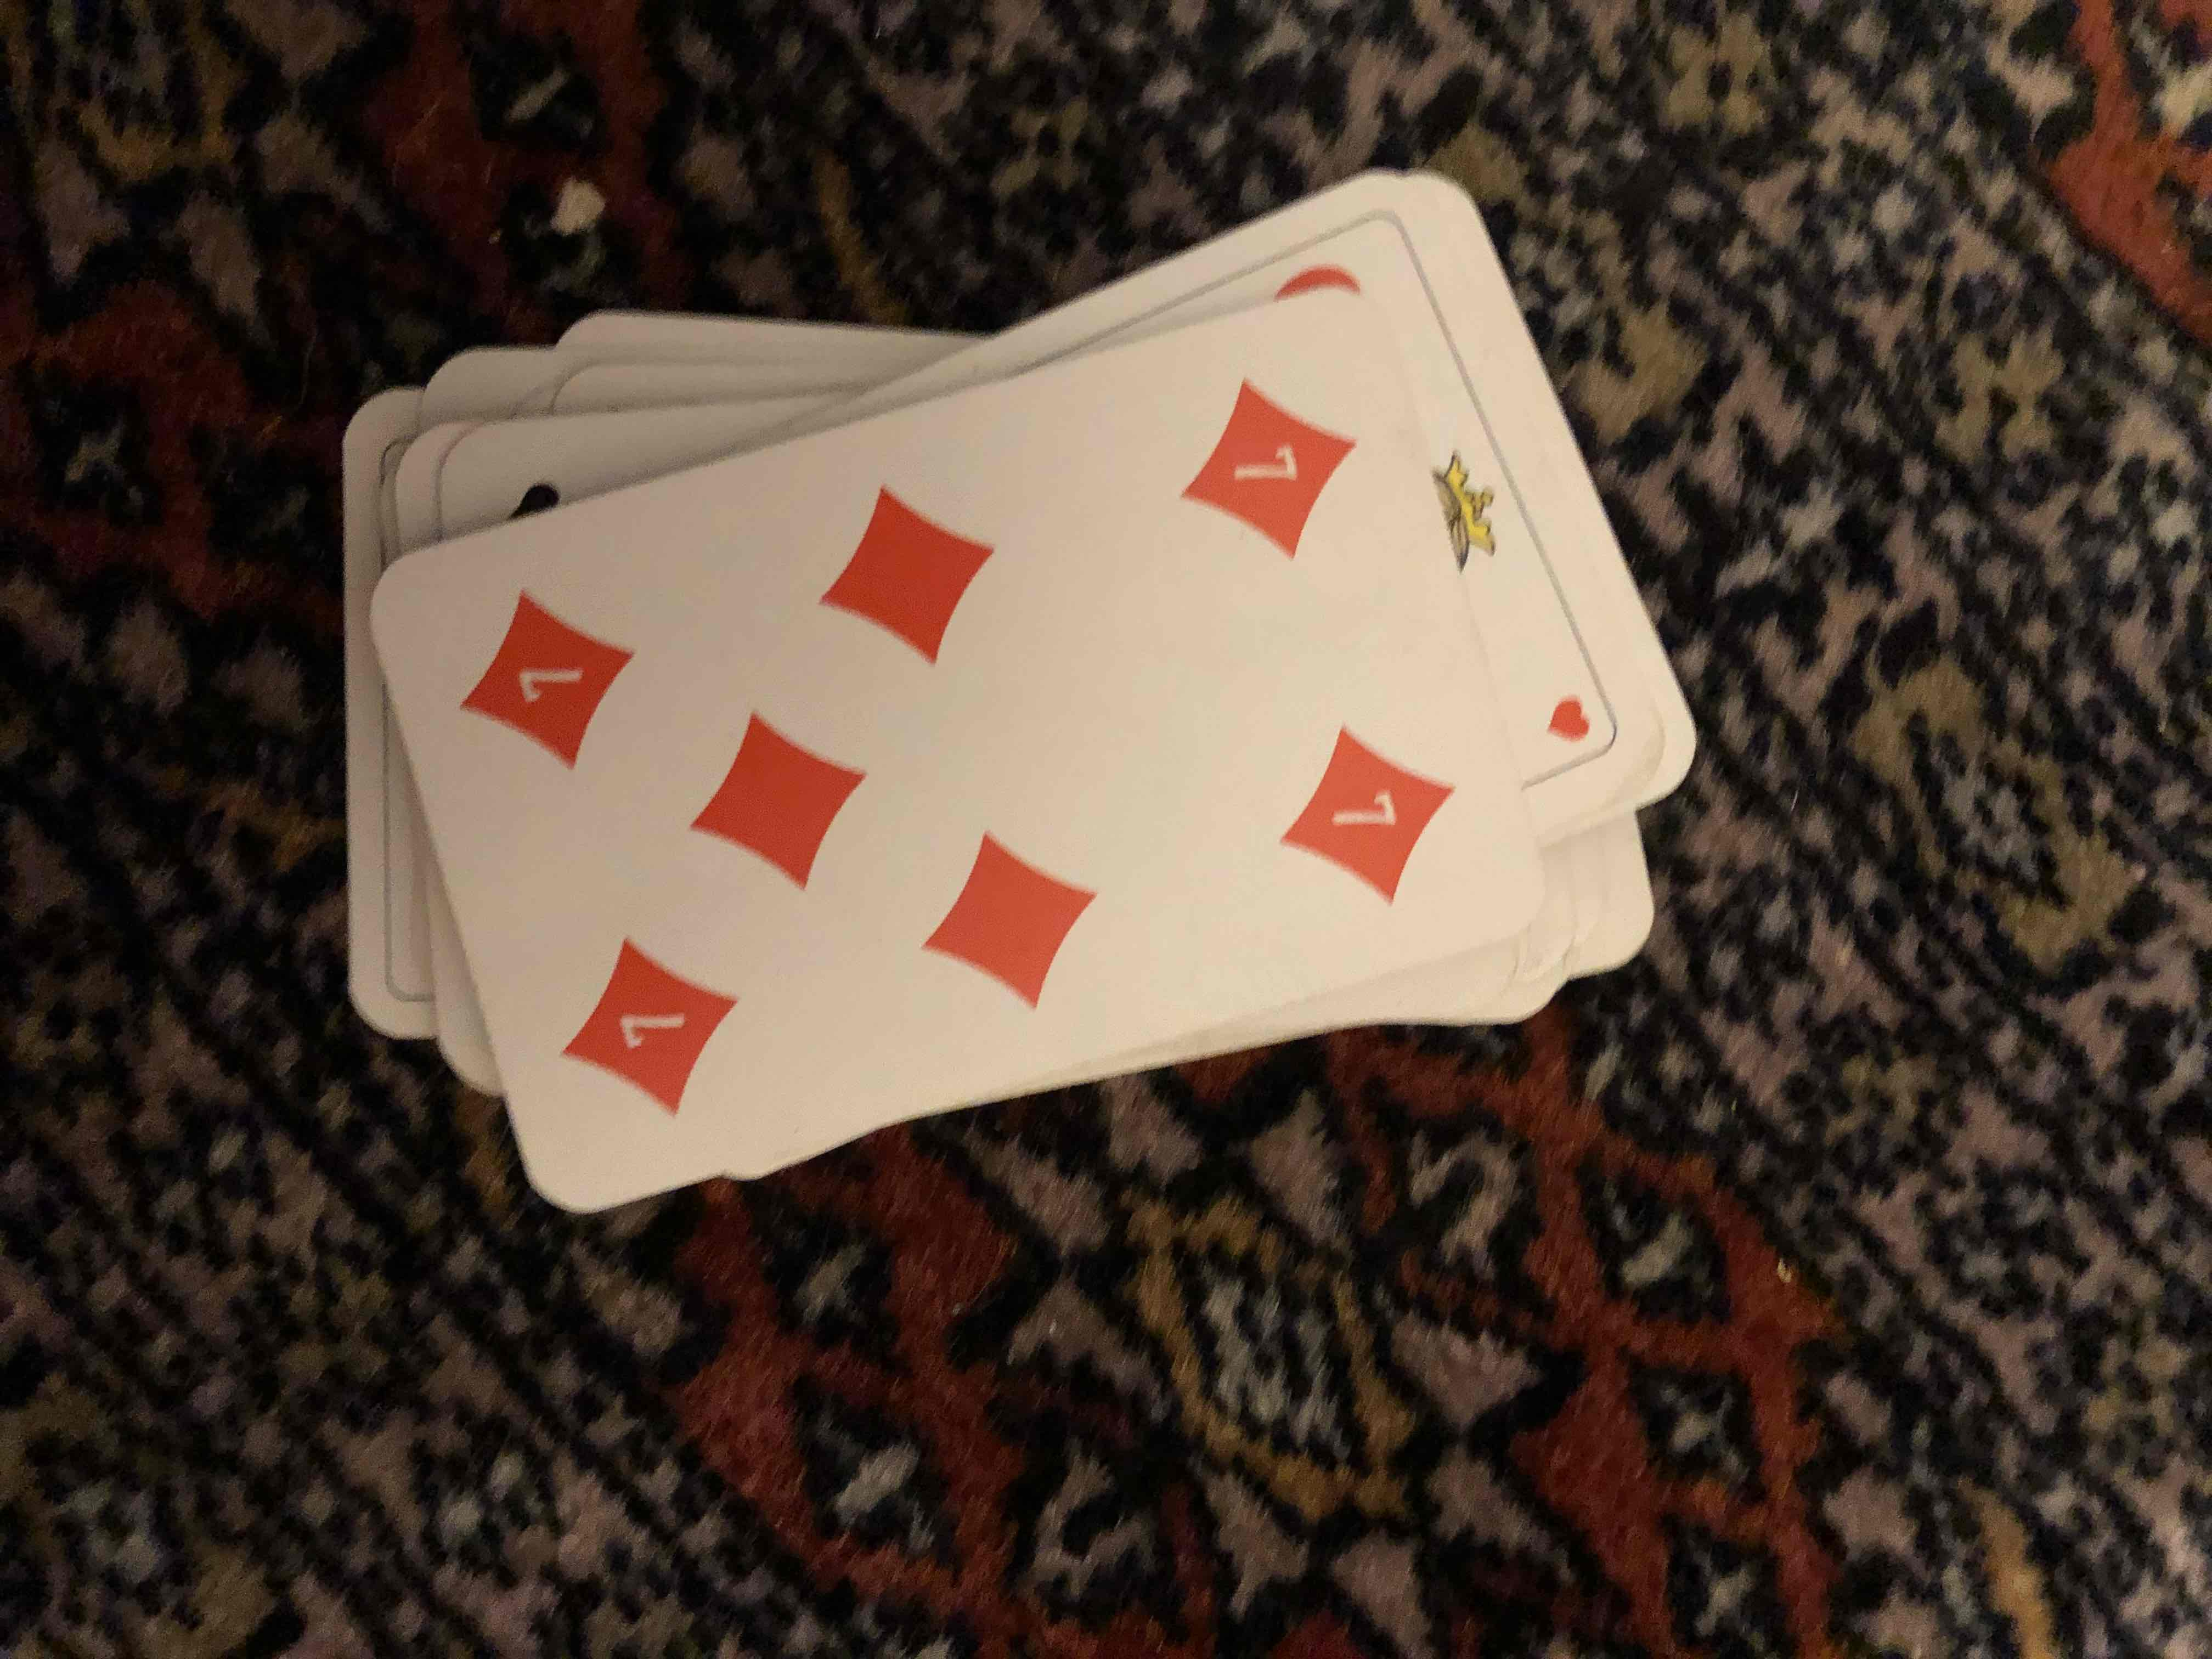diamond7: (428, 378, 1548, 1107)
